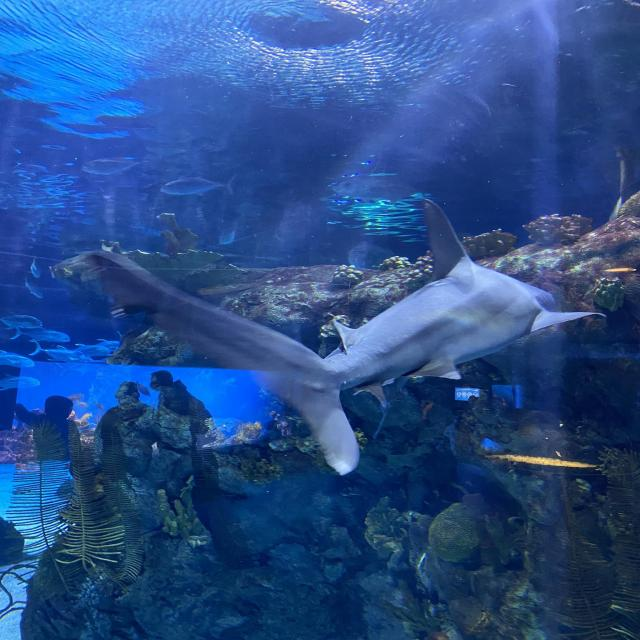fish: (160, 176, 236, 196), (30, 339, 80, 364), (81, 158, 147, 175), (10, 326, 69, 344), (0, 311, 42, 332), (0, 373, 41, 392), (84, 337, 127, 352), (72, 343, 110, 358), (0, 352, 35, 367), (25, 276, 43, 297), (28, 258, 40, 277)
shark: (89, 197, 605, 474)
